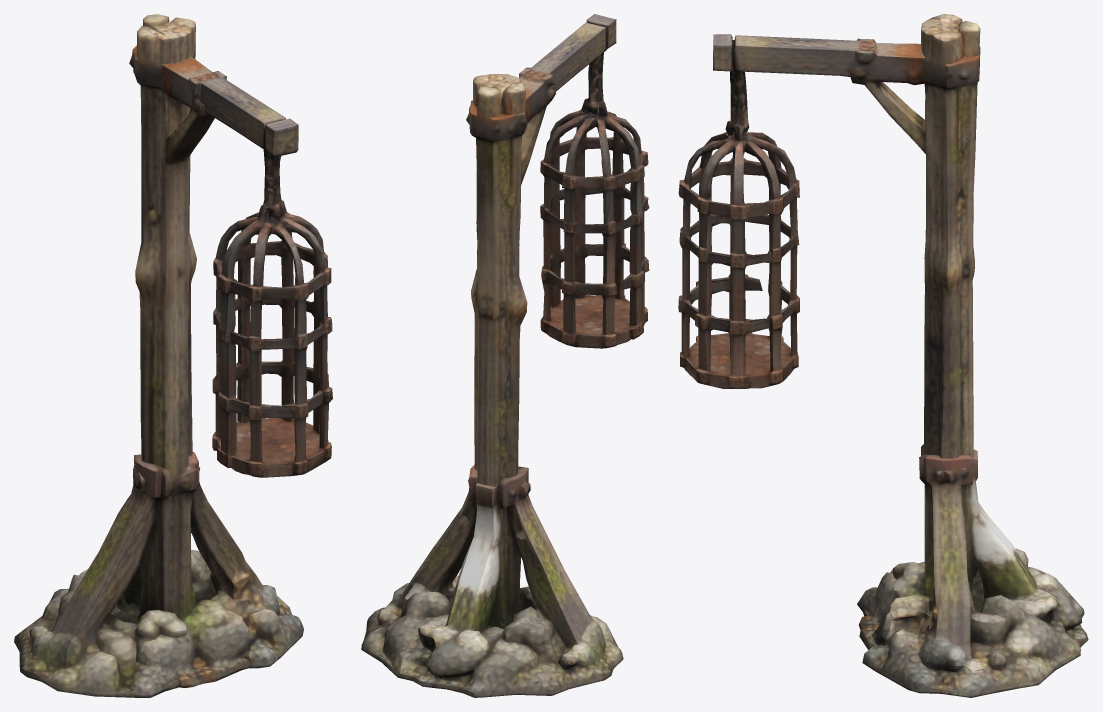
The model's file is prop-gibbet.glb.
3 renders of one model, left to right at view 1: azimuth 30°, elevation 25°; view 2: azimuth 150°, elevation 25°; view 3: azimuth 270°, elevation 25°, orthographic. The views are drawn at different scales.
Visible parts, largest first — view 1: prop-gibbet; view 2: prop-gibbet; view 3: prop-gibbet.
Boxes of the visible parts, x1,y1,x2,y2 form: prop-gibbet: [14, 14, 332, 697]; prop-gibbet: [361, 14, 649, 697]; prop-gibbet: [678, 14, 1088, 697].
Size of the model in its own units: 2.49 by 5.59 by 3.41.
1 material, 1 textured.
